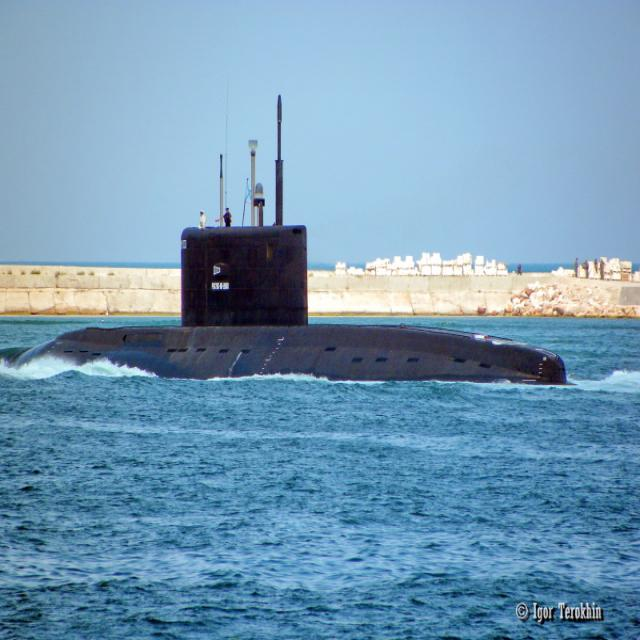submarine: (18, 82, 575, 371)
